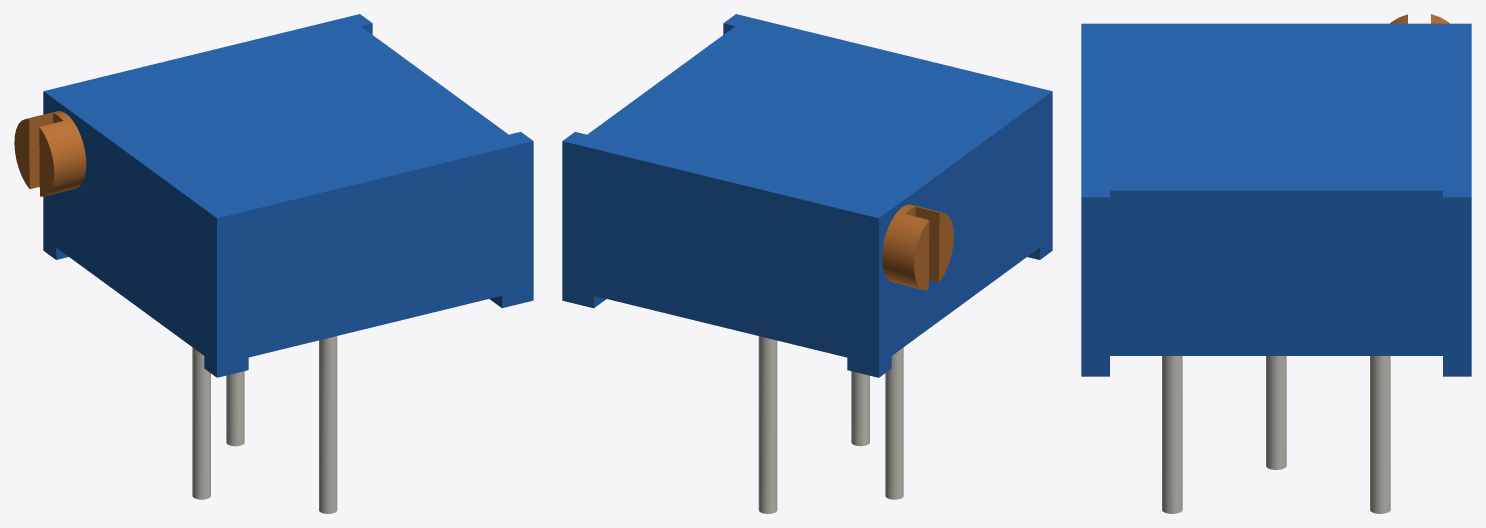
The model's file is kc-potentiometer_bourns_3296p_horizontal.glb.
3 views of the same model, side by side, from view 1: azimuth 30°, elevation 25°; view 2: azimuth 150°, elevation 25°; view 3: azimuth 270°, elevation 25° (orthographic). The views are drawn at different scales.
Parts seen in each view (by area): view 1: 0_0.16666666666666666_0.5_0, 0.6666666666666666_0.6666666666666666_0.5833333333333334_0.8, 0.5_0.16666666666666666_0_0; view 2: 0_0.16666666666666666_0.5_0, 0.6666666666666666_0.6666666666666666_0.5833333333333334_0.8, 0.5_0.16666666666666666_0_0; view 3: 0_0.16666666666666666_0.5_0, 0.6666666666666666_0.6666666666666666_0.5833333333333334_0.8.
Part boxes in pixels (x1=…): 0_0.16666666666666666_0.5_0: x1=43, y1=14, x2=533, y2=377; 0.6666666666666666_0.6666666666666666_0.5833333333333334_0.8: x1=192, y1=336, x2=337, y2=513; 0.5_0.16666666666666666_0_0: x1=14, y1=111, x2=86, y2=196; 0_0.16666666666666666_0.5_0: x1=562, y1=14, x2=1052, y2=377; 0.6666666666666666_0.6666666666666666_0.5833333333333334_0.8: x1=758, y1=336, x2=903, y2=513; 0.5_0.16666666666666666_0_0: x1=882, y1=204, x2=953, y2=290; 0_0.16666666666666666_0.5_0: x1=1081, y1=23, x2=1471, y2=376; 0.6666666666666666_0.6666666666666666_0.5833333333333334_0.8: x1=1162, y1=356, x2=1390, y2=513.
Bounding box in the file's own units: 1.11 × 1.08 × 0.953.
